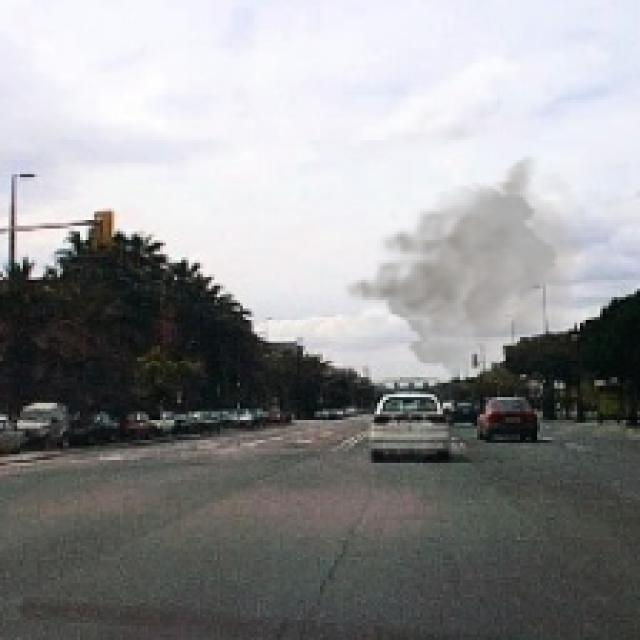smoke: (337, 154, 592, 377)
